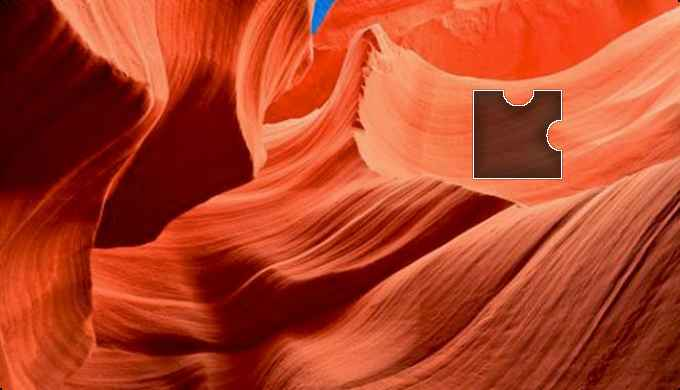gap: (473, 90, 563, 179)
